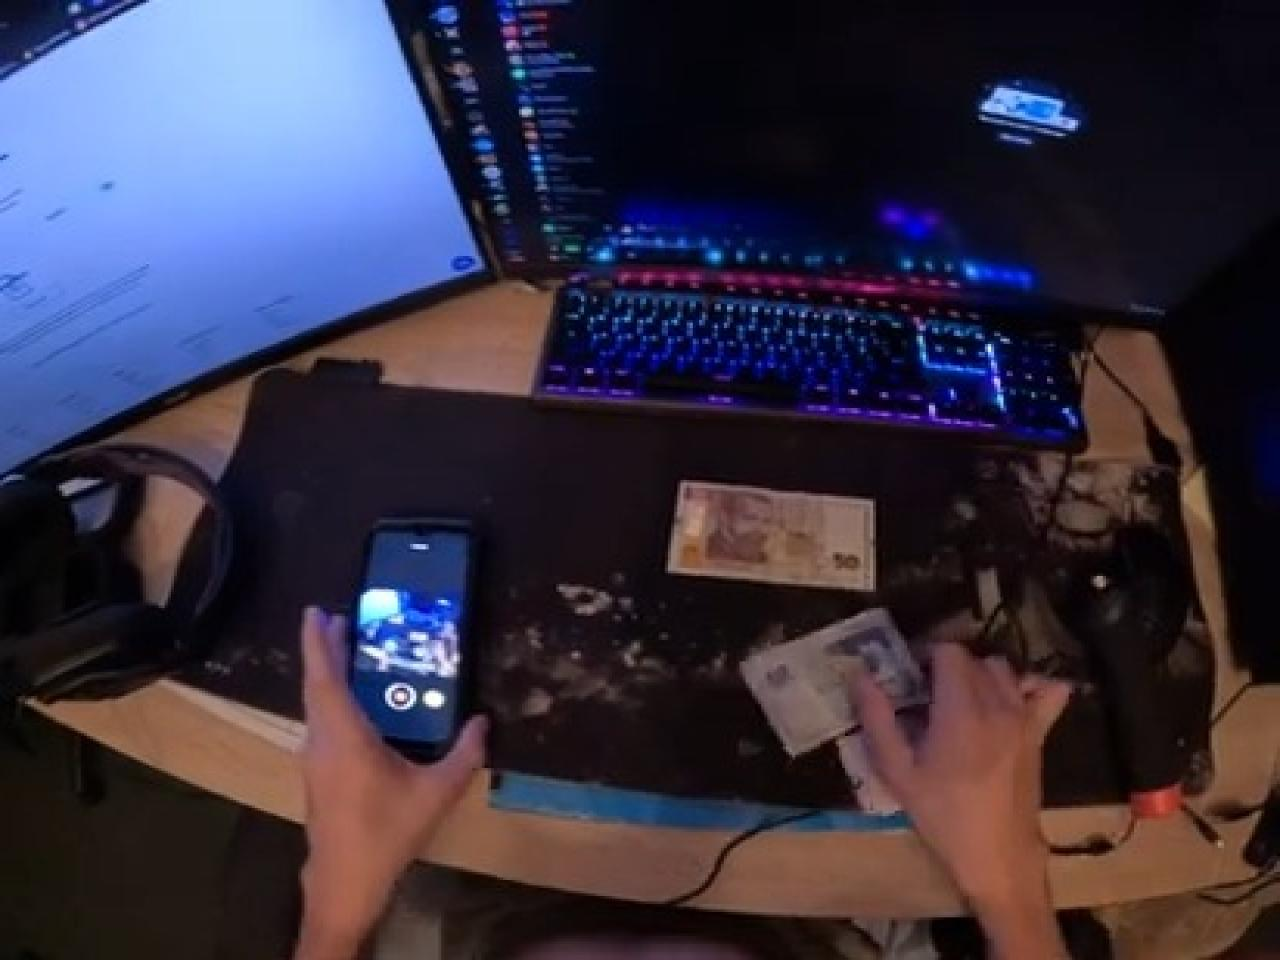50leva: (655, 477, 889, 632)
